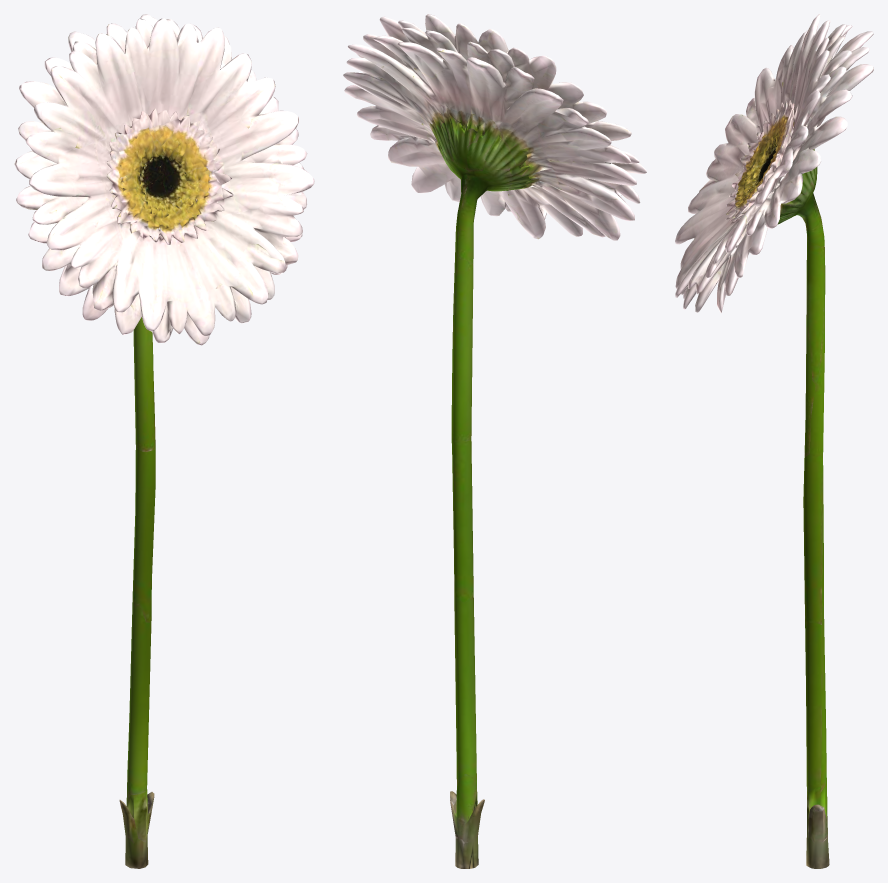
Rendered from gerbera_white.glb.
3 views of the same model, side by side, from view 1: azimuth 30°, elevation 25°; view 2: azimuth 150°, elevation 25°; view 3: azimuth 270°, elevation 25° (orthographic). The views are drawn at different scales.
Bounding box in the file's own units: 0.6712 × 1.9 × 0.413.
1 material, 1 textured.
